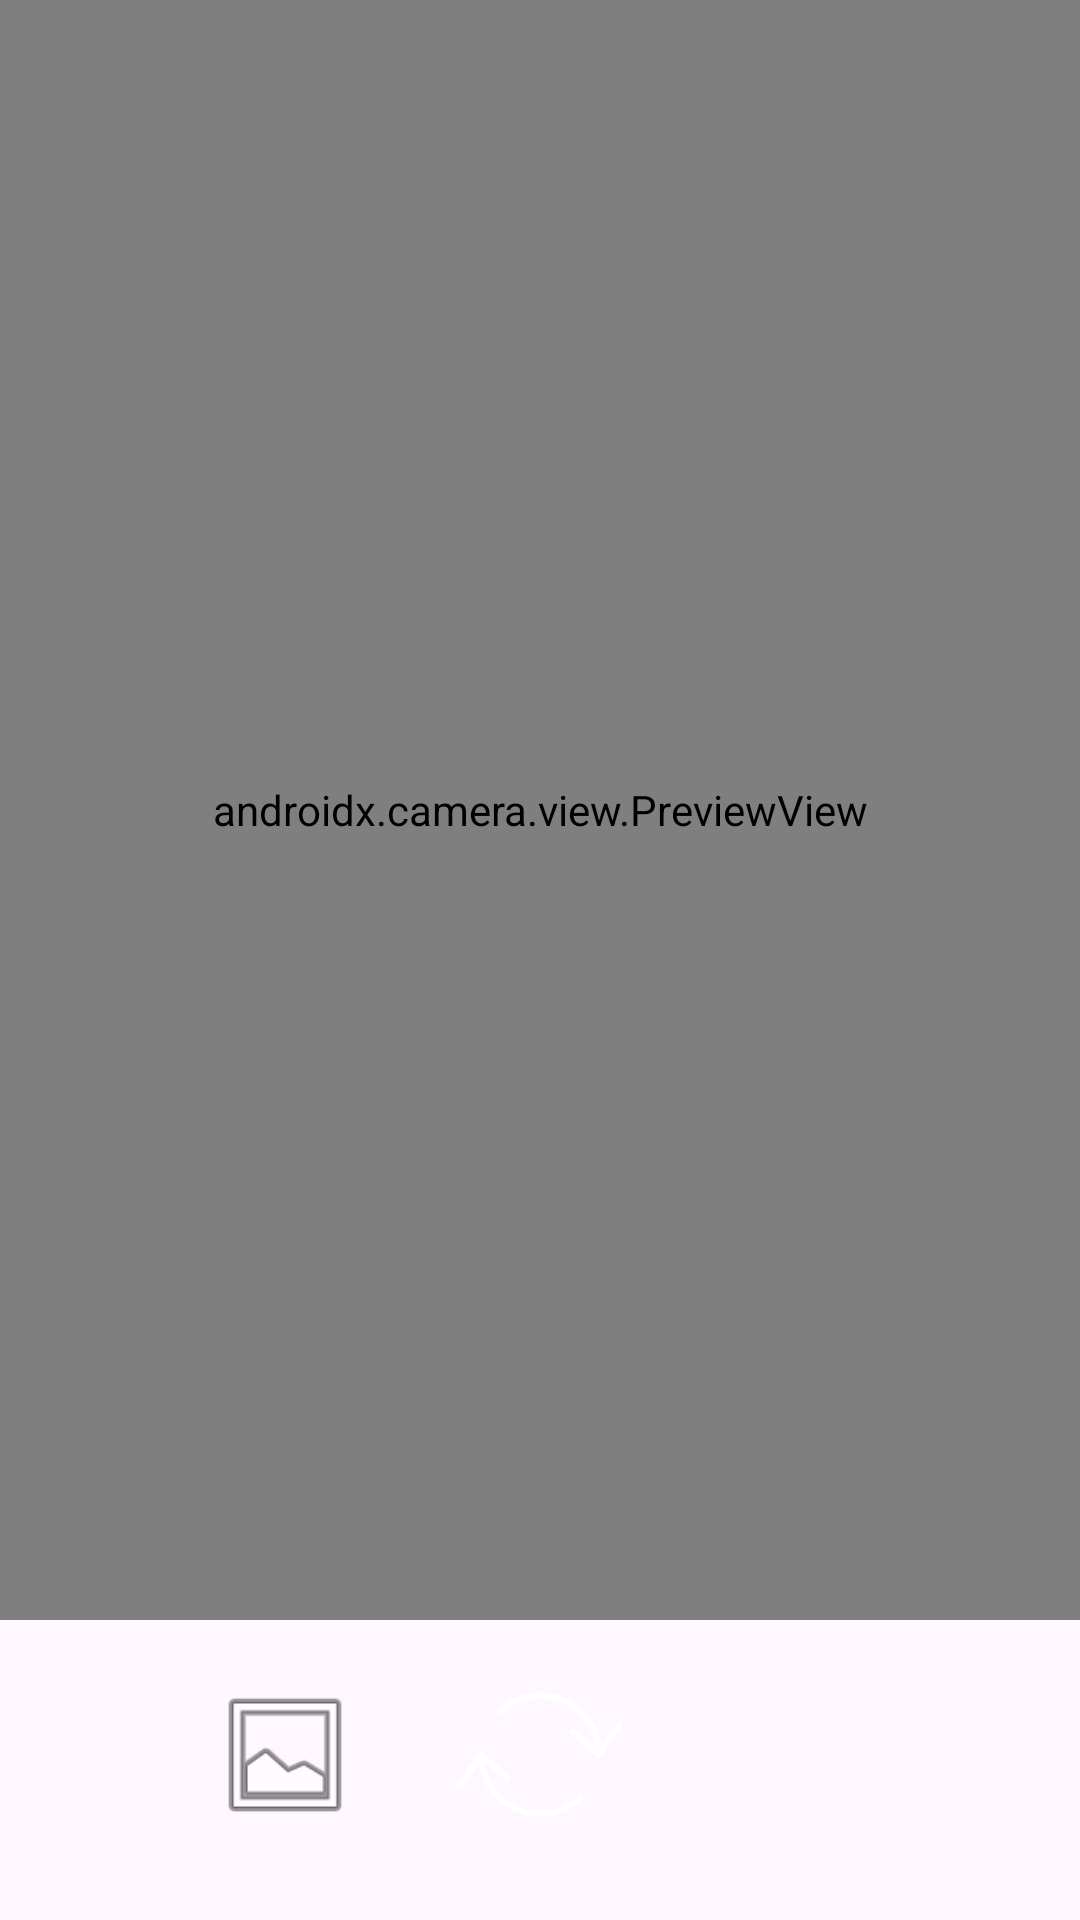

Locate icon controls on the screen. Image size 1080 × 1920, boxes as Rect(x1, y1, x2, y2).
gallery: Rect(228, 1698, 342, 1812)
